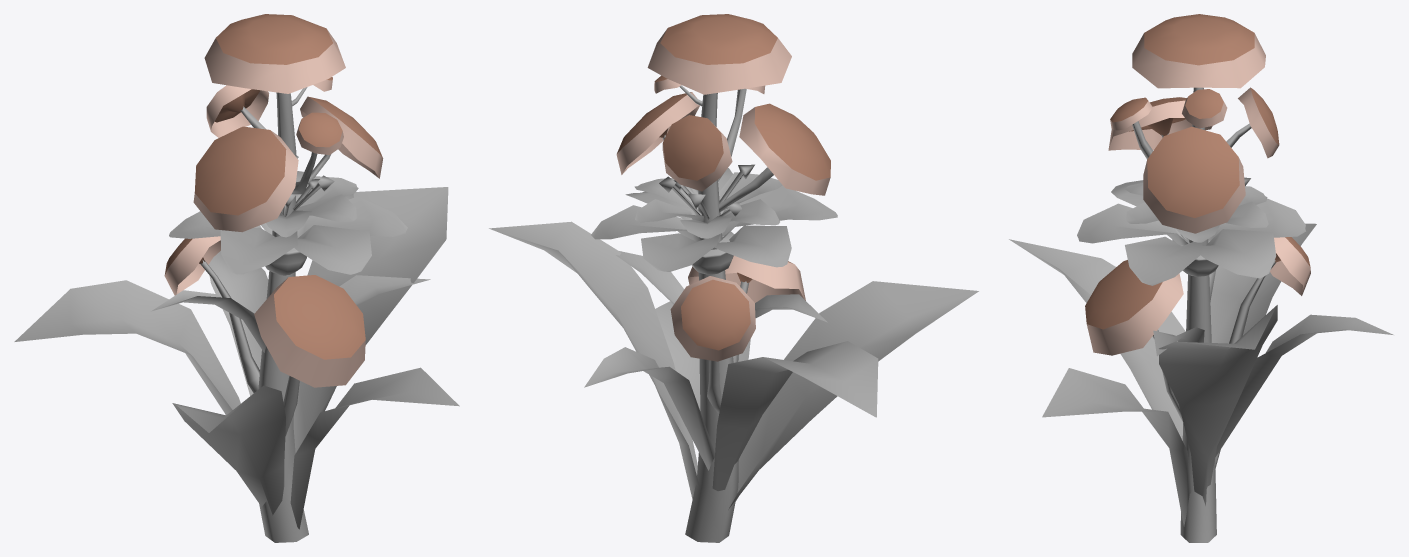
File: MushFlower_Stage05.fbx
The picture shows the model from 3 angles, left to right: view 1: azimuth 30°, elevation 25°; view 2: azimuth 150°, elevation 25°; view 3: azimuth 270°, elevation 25°; orthographic projection.
Visible parts, largest first — view 1: MushroomFlower_Stage05; view 2: MushroomFlower_Stage05; view 3: MushroomFlower_Stage05.
Boxes of the visible parts, x1,y1,x2,y2 form: MushroomFlower_Stage05: [14, 14, 459, 542]; MushroomFlower_Stage05: [489, 14, 978, 542]; MushroomFlower_Stage05: [1009, 14, 1393, 542].
Bounding box in the file's own units: 35.65 × 42.29 × 29.54.
